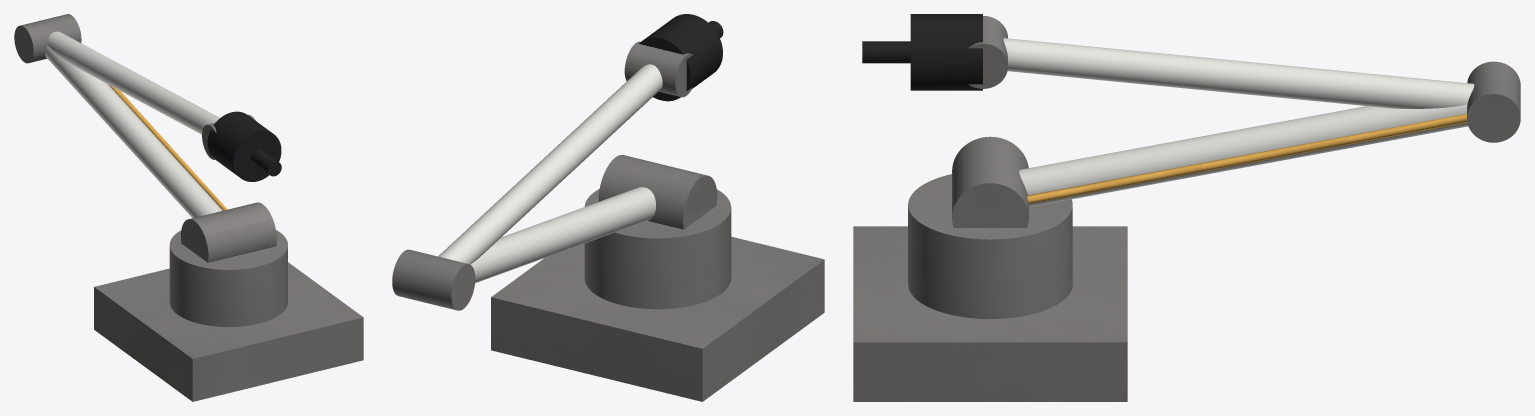
File: rover30_robotic_arm_s.glb
The picture shows the model from 3 angles, left to right: view 1: azimuth 30°, elevation 25°; view 2: azimuth 150°, elevation 25°; view 3: azimuth 270°, elevation 25°; orthographic projection. The views are drawn at different scales.
Visible parts, largest first — view 1: base, arm_turret, arm_link1, arm_link2, arm_tool, arm_elbow, arm_cable; view 2: base, arm_turret, arm_link2, arm_link1, arm_elbow, arm_tool, arm_wrist; view 3: base, arm_turret, arm_link2, arm_link1, arm_tool, arm_cable, arm_elbow, arm_wrist.
Boxes of the visible parts, <box> form: base: <box>94,262,363,401</box>; arm_turret: <box>169,202,287,326</box>; arm_link1: <box>45,45,222,217</box>; arm_link2: <box>47,31,219,134</box>; arm_tool: <box>207,111,281,181</box>; arm_elbow: <box>14,14,81,63</box>; arm_cable: <box>109,85,227,210</box>; base: <box>491,236,824,401</box>; arm_turret: <box>584,155,731,309</box>; arm_link2: <box>438,64,662,264</box>; arm_link1: <box>470,187,655,283</box>; arm_elbow: <box>392,249,475,310</box>; arm_tool: <box>639,14,723,101</box>; arm_wrist: <box>624,41,692,97</box>; base: <box>853,226,1127,401</box>; arm_turret: <box>908,136,1072,318</box>; arm_link2: <box>1003,38,1474,108</box>; arm_link1: <box>1019,104,1468,206</box>; arm_tool: <box>862,14,982,90</box>; arm_cable: <box>1027,114,1467,203</box>; arm_elbow: <box>1467,61,1520,142</box>; arm_wrist: <box>968,16,1007,88</box>.
Bounding box in the file's own units: 0.5 × 0.6562 × 1.22.
Materials: 4 (2 with a texture image).
